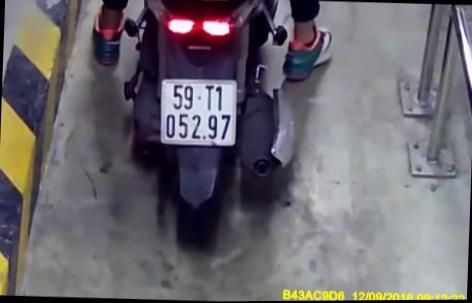LP: (158, 73, 242, 151)
